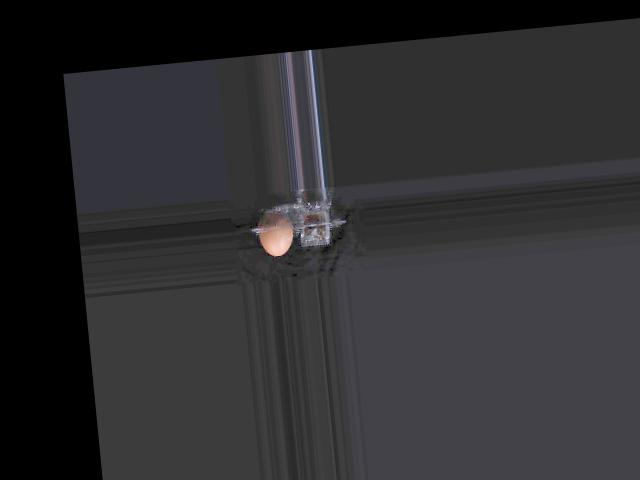egg: (255, 209, 294, 257)
